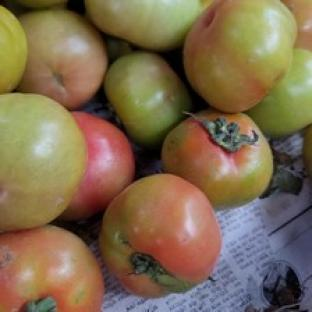Tomato: (99, 173, 221, 296), (0, 92, 86, 231), (162, 109, 272, 208), (0, 226, 104, 311), (104, 51, 192, 150), (60, 112, 135, 220), (246, 49, 311, 137), (0, 6, 27, 93), (303, 126, 311, 176)
